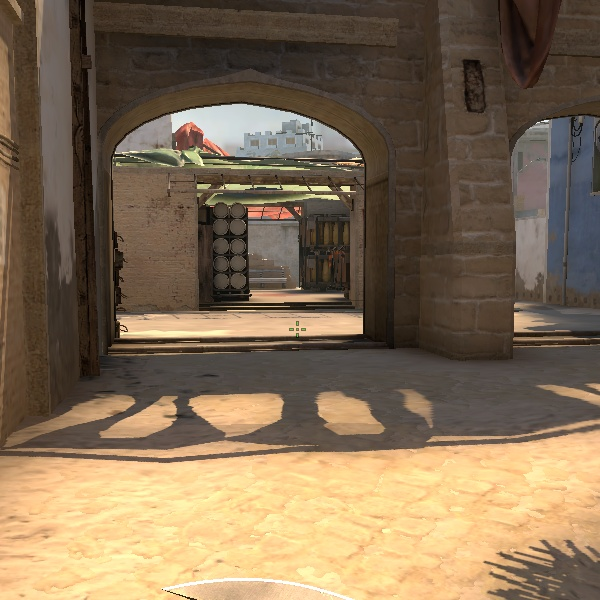t_body: (207, 219, 258, 298)
